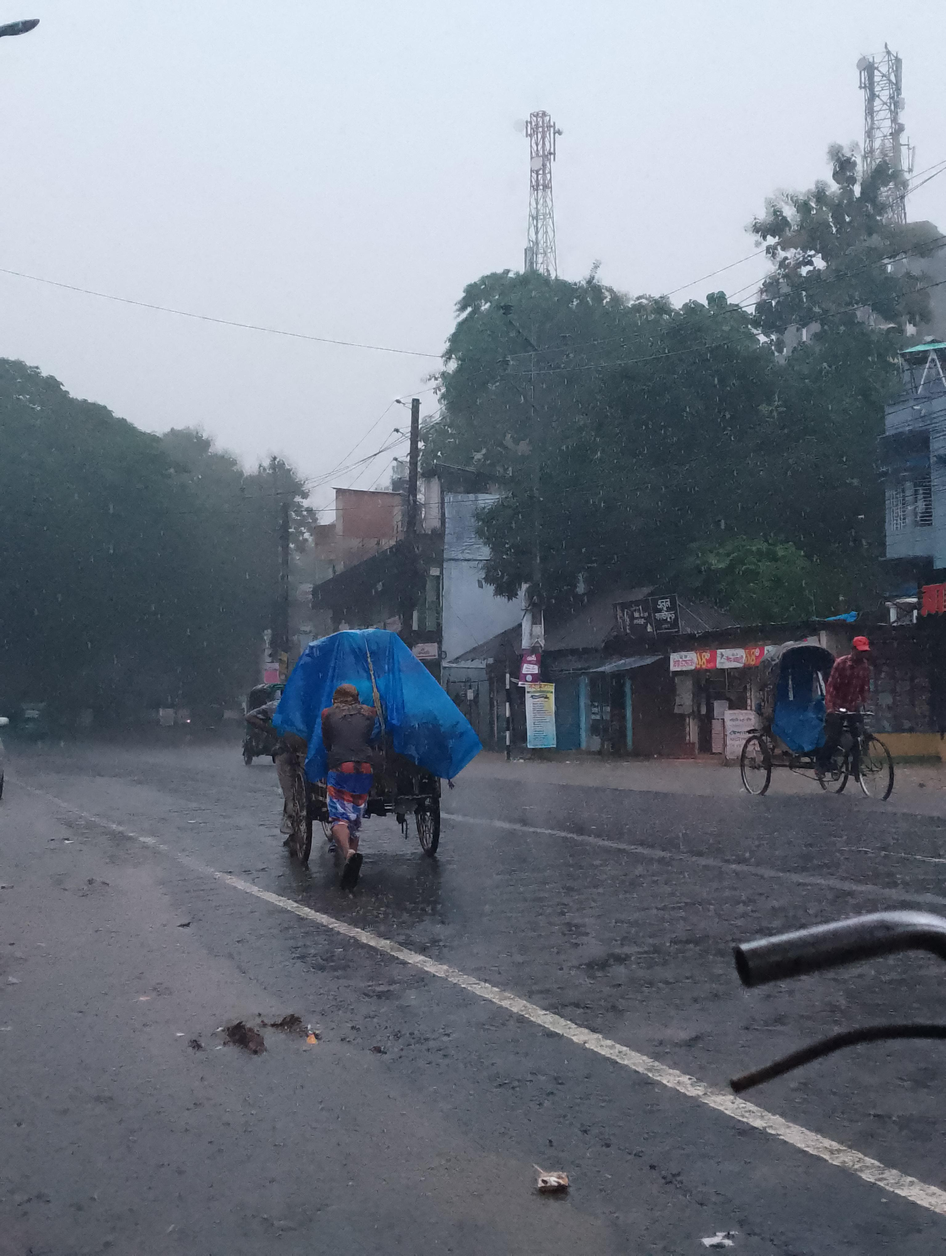Car: (731, 611, 918, 824)
